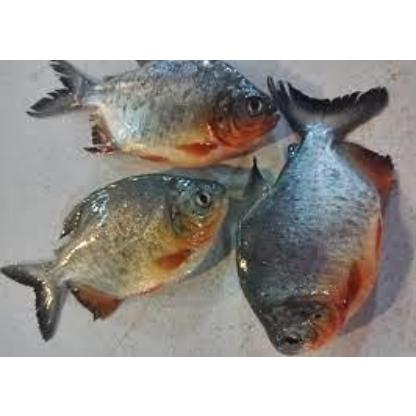ikan-pacu: (239, 88, 394, 352), (12, 172, 232, 330), (38, 58, 278, 152)
